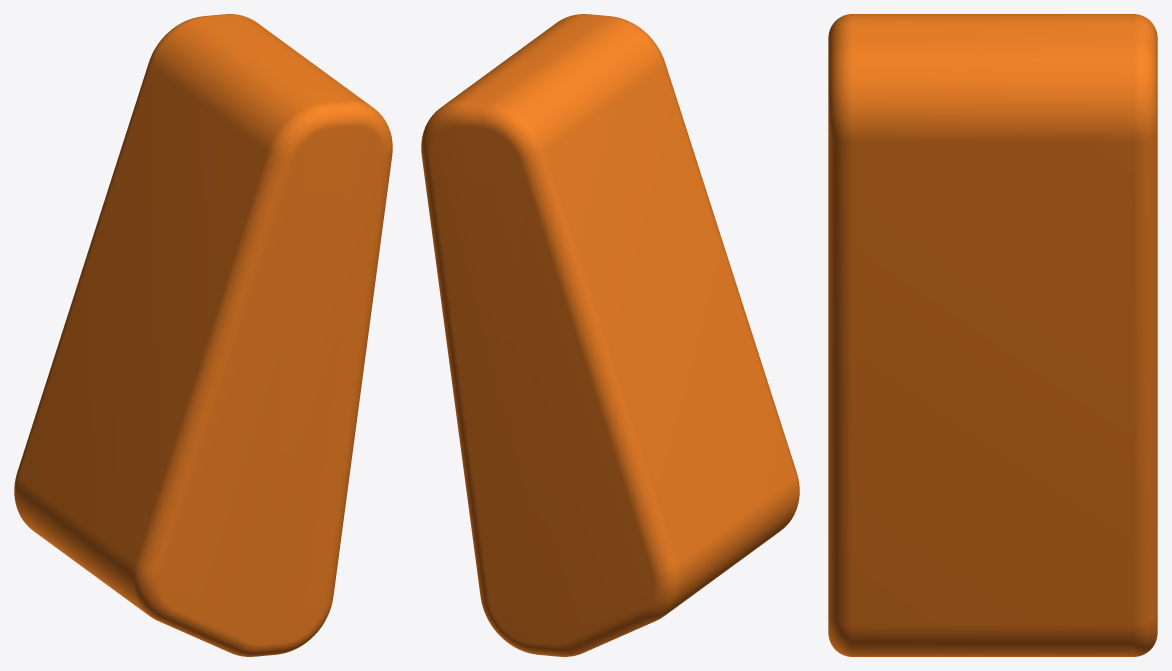
The picture shows the model from 3 angles, left to right: view 1: azimuth 30°, elevation 25°; view 2: azimuth 150°, elevation 25°; view 3: azimuth 270°, elevation 25°; orthographic projection. The views are drawn at different scales.
Parts seen in each view (by area): view 1: gripper_frame; view 2: gripper_frame; view 3: gripper_frame.
Part boxes in pixels (x1=…): gripper_frame: x1=14, y1=14, x2=392, y2=656; gripper_frame: x1=421, y1=14, x2=799, y2=656; gripper_frame: x1=828, y1=14, x2=1157, y2=656.
Bounding box in the file's own units: 0.0296 × 0.0594 × 0.0272.
